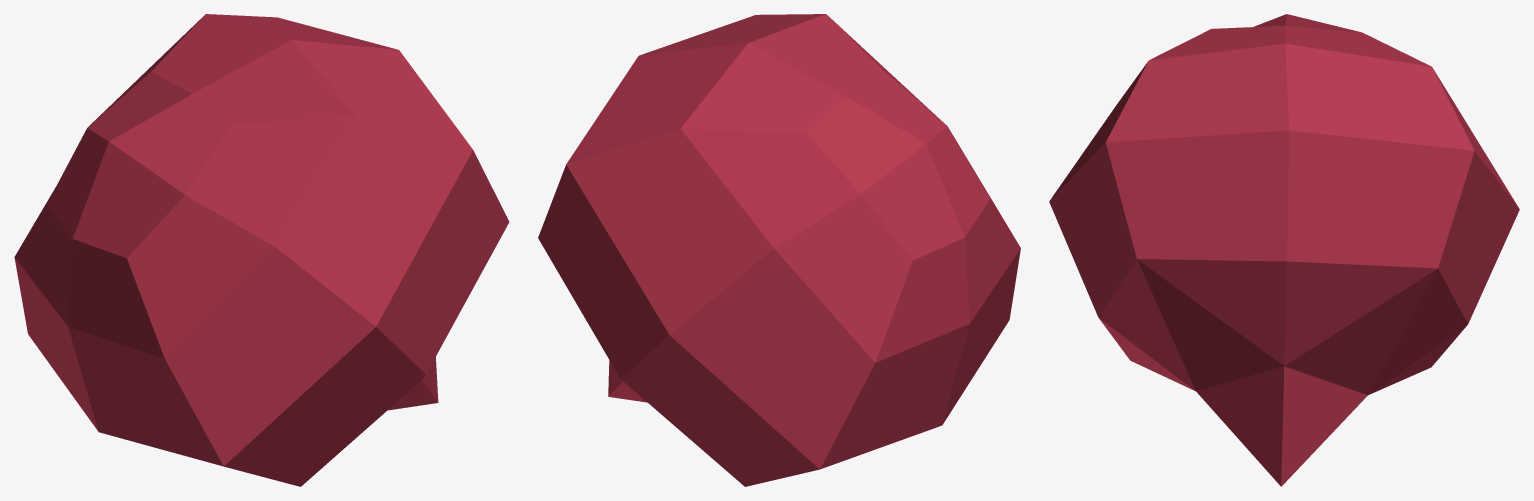
File: onionRed.fbx
3 views of the same model, side by side, from view 1: azimuth 30°, elevation 25°; view 2: azimuth 150°, elevation 25°; view 3: azimuth 270°, elevation 25° (orthographic). The views are drawn at different scales.
Parts seen in each view (by area): view 1: onionRed; view 2: onionRed; view 3: onionRed.
Boxes of the visible parts, x1,y1,x2,y2 form: onionRed: (14, 14, 509, 486); onionRed: (538, 14, 1020, 486); onionRed: (1049, 14, 1519, 486).
Size of the model in its own units: 6.35 by 6.33 by 7.17.
Materials: 1 (1 with a texture image).
